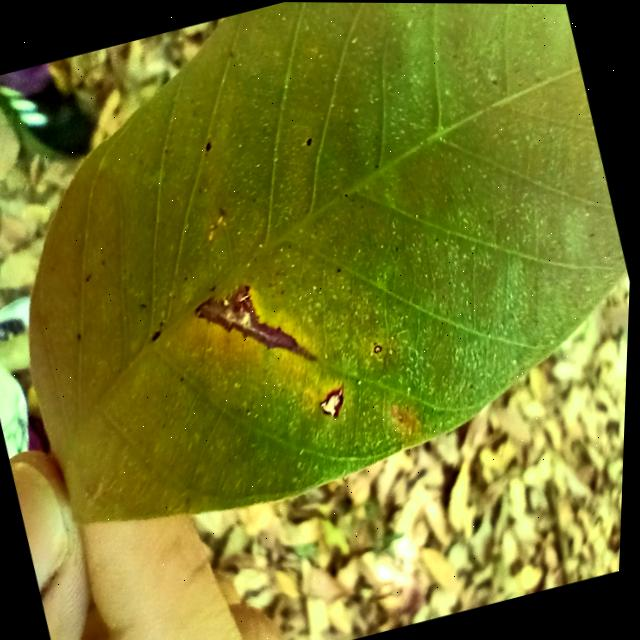Colletotrichum: (375, 342, 386, 352)
Corynespora: (193, 270, 322, 386)
